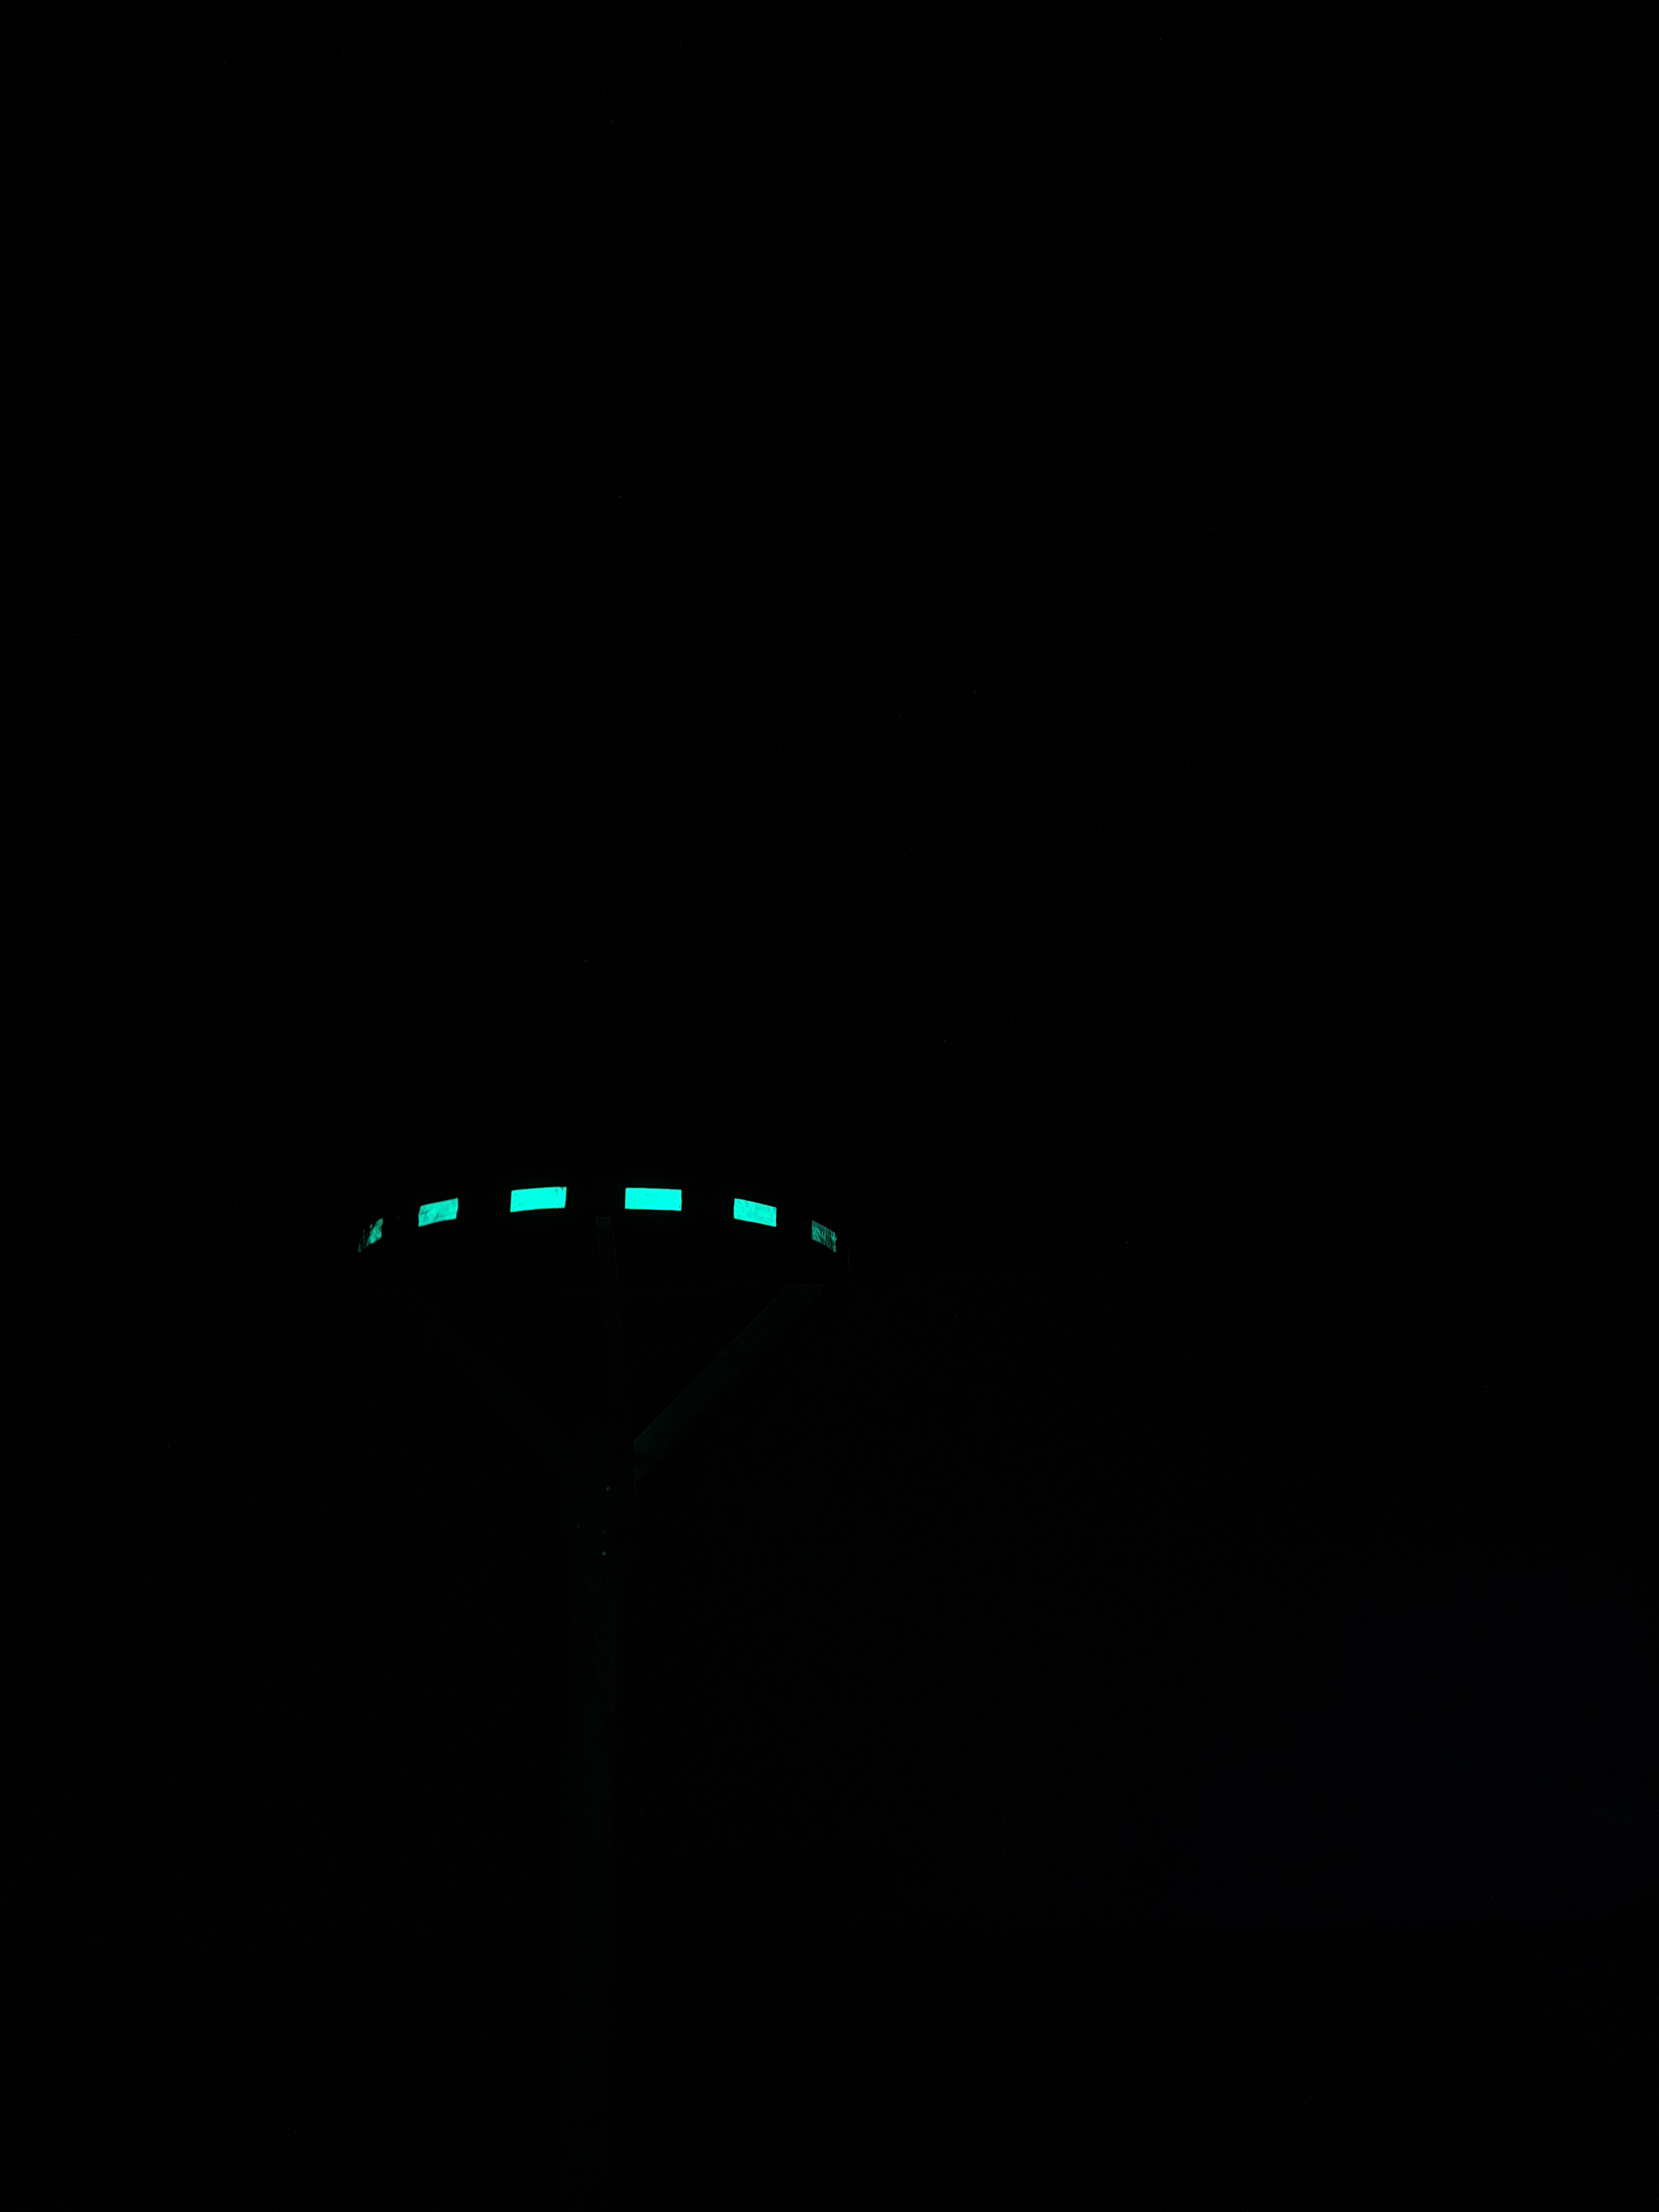hoop: (356, 1177, 842, 1273)
